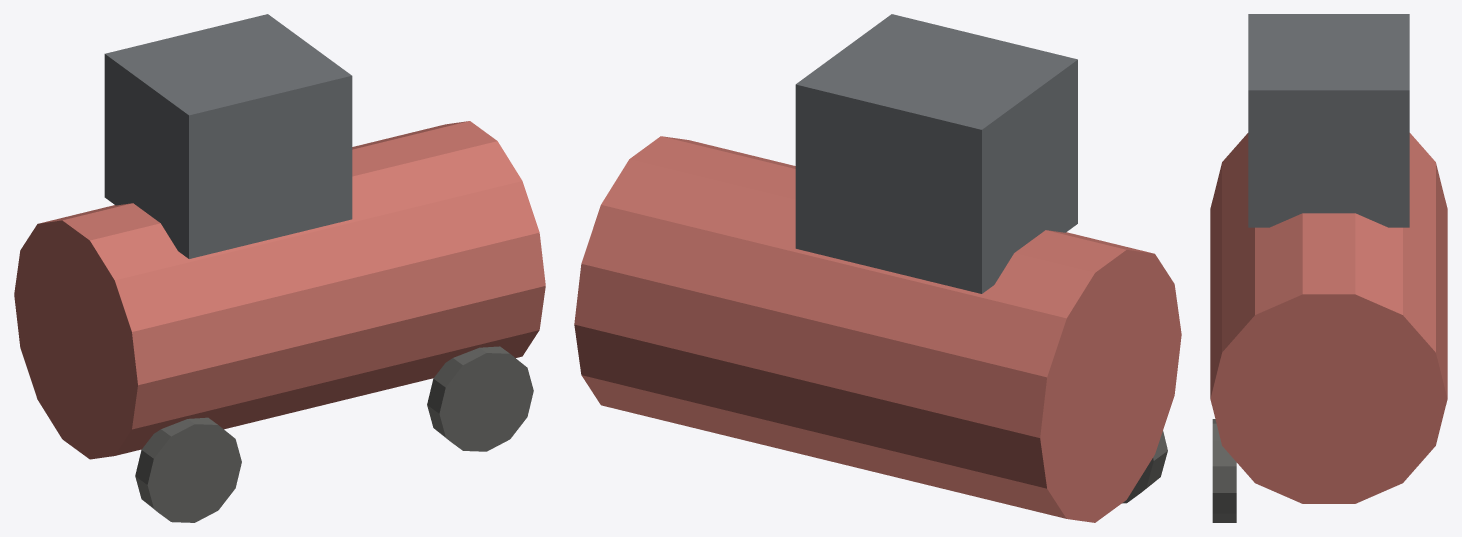
The model's file is compressor_01.glb.
The picture shows the model from 3 angles, left to right: view 1: azimuth 30°, elevation 25°; view 2: azimuth 150°, elevation 25°; view 3: azimuth 270°, elevation 25°; orthographic projection. The views are drawn at different scales.
Visible parts, largest first — view 1: tank, motor, wheel-0.34, wheel0.34; view 2: tank, motor, wheel-0.34; view 3: tank, motor, wheel0.34.
Part boxes in pixels (<box>): tank: <box>14,121,545,459</box>; motor: <box>104,14,352,258</box>; wheel-0.34: <box>135,417,241,522</box>; wheel0.34: <box>427,346,533,451</box>; tank: <box>574,136,1181,522</box>; motor: <box>795,14,1077,293</box>; wheel-0.34: <box>1122,431,1167,503</box>; tank: <box>1210,133,1447,503</box>; motor: <box>1248,14,1409,227</box>; wheel0.34: <box>1212,419,1236,522</box>.
Size of the model in its own units: 0.95 by 0.87 by 0.5.
